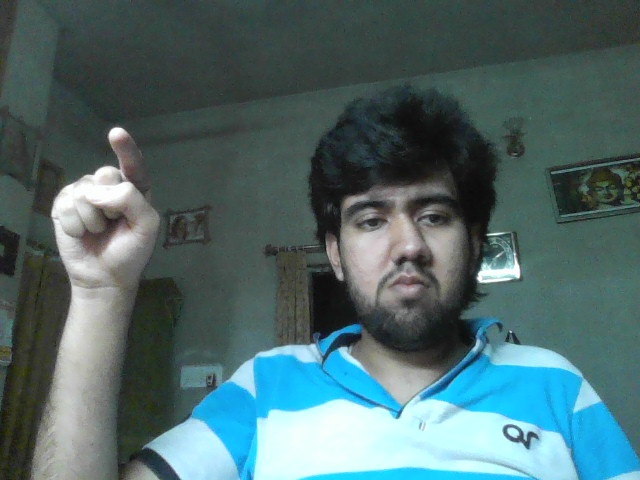You: (51, 126, 162, 278)
